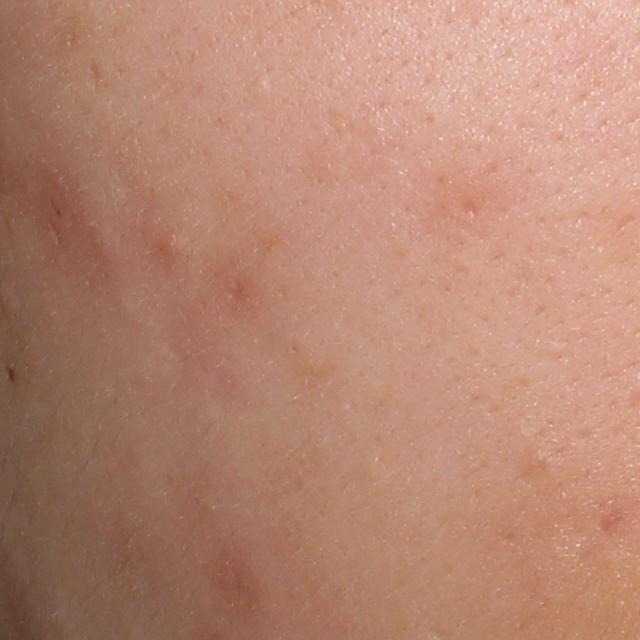comedo: (519, 445, 563, 489), (248, 74, 273, 103)
